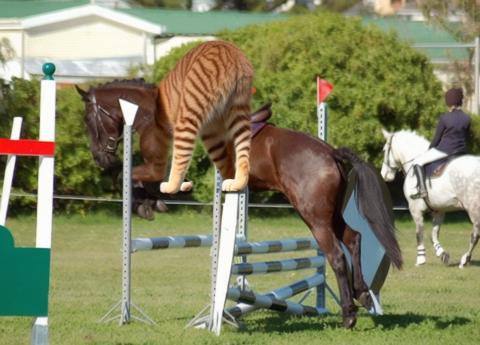cat: (154, 33, 254, 193)
horse: (75, 78, 405, 330), (382, 129, 480, 270)
person: (410, 89, 473, 200)
